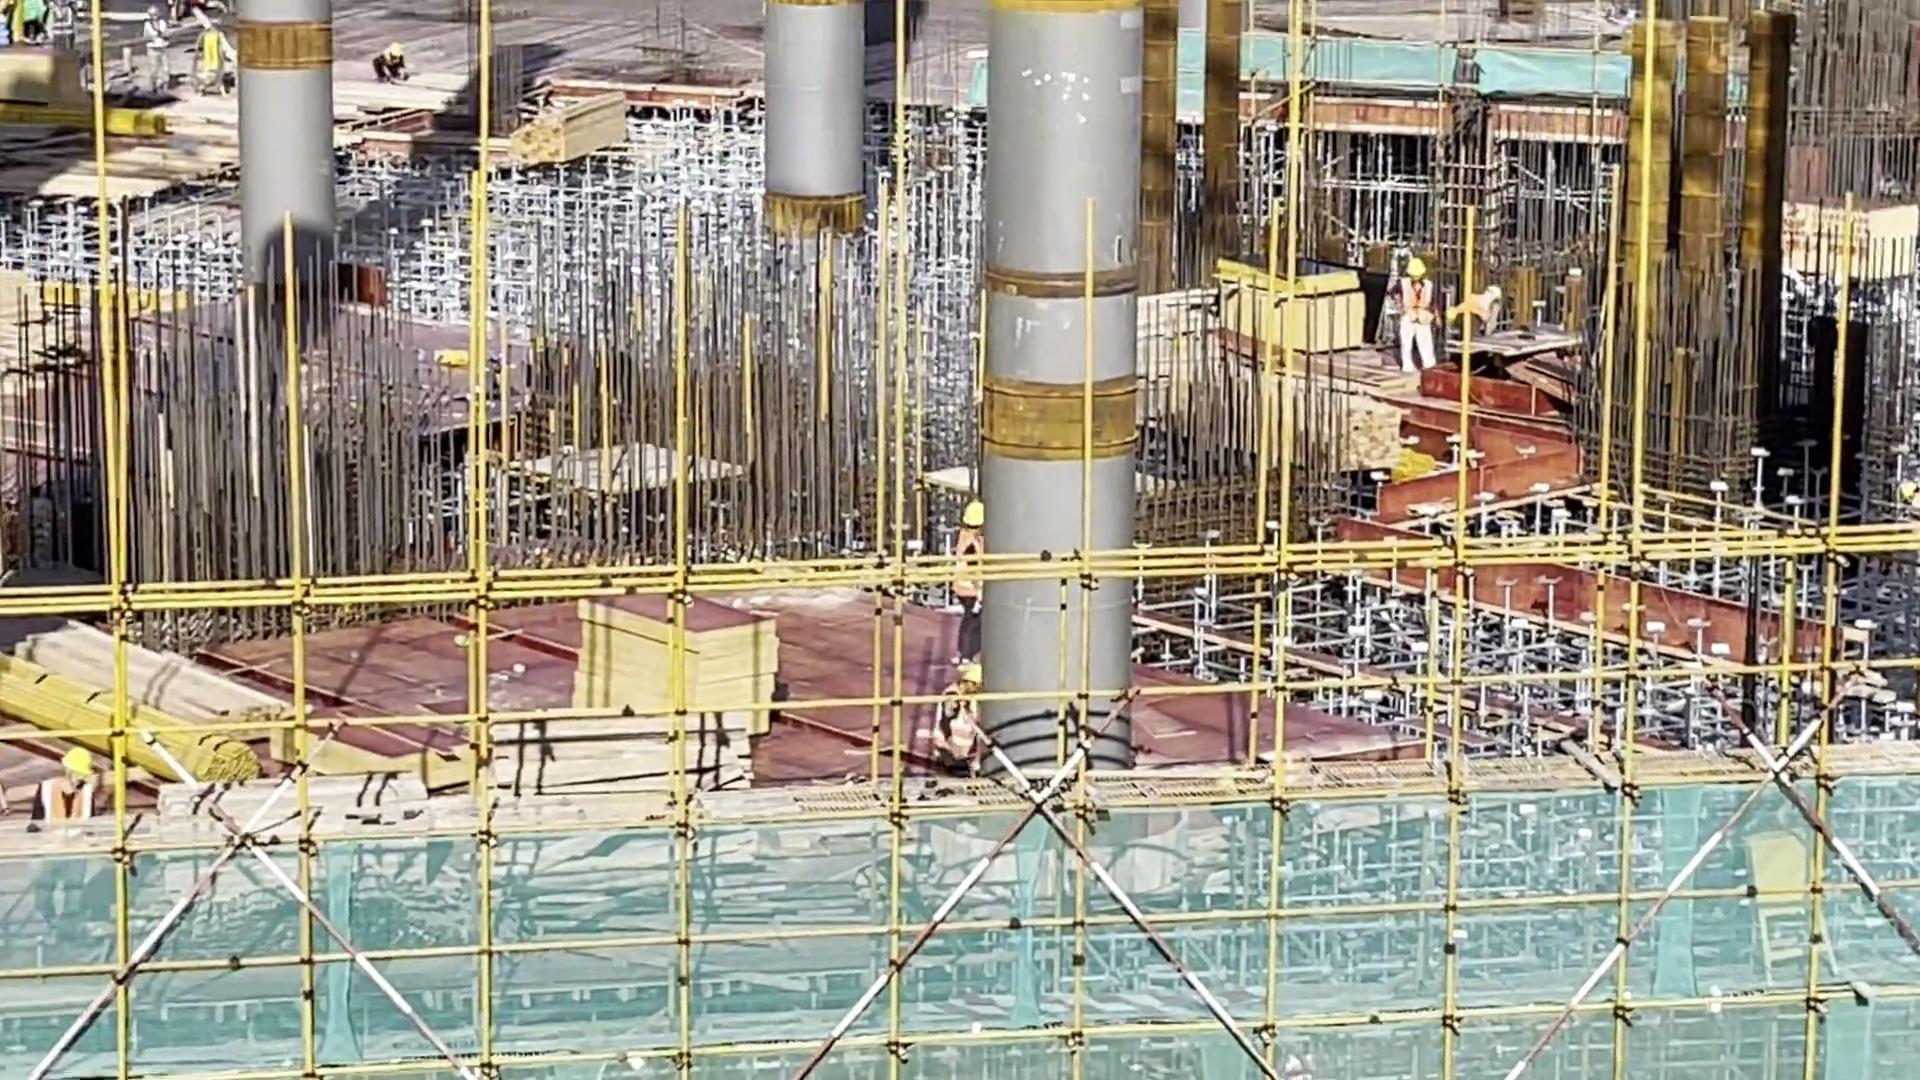board: (568, 566, 784, 765), (1208, 245, 1376, 354)
ebox: (1733, 813, 1845, 994)
helmet: (952, 665, 991, 699), (962, 497, 988, 530), (1409, 255, 1431, 286)
person: (31, 720, 109, 962), (940, 487, 1005, 680), (930, 649, 1011, 793), (1384, 249, 1447, 387), (1440, 270, 1529, 352), (191, 19, 244, 104), (365, 38, 416, 81), (51, 1, 79, 65)
vest: (937, 683, 989, 778), (951, 533, 998, 608), (1399, 279, 1435, 331), (51, 4, 74, 41), (26, 1, 46, 30)
wood: (468, 707, 766, 859), (2, 614, 320, 742), (500, 85, 636, 188)
